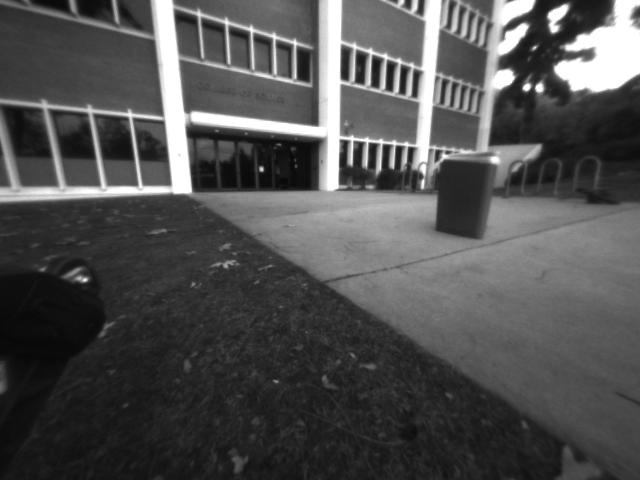trashcan_open: (427, 147, 512, 245)
